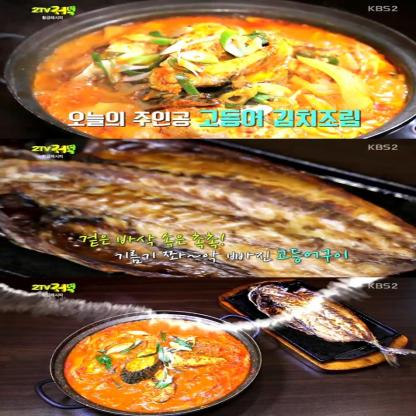Peixe: (4, 156, 394, 285)
